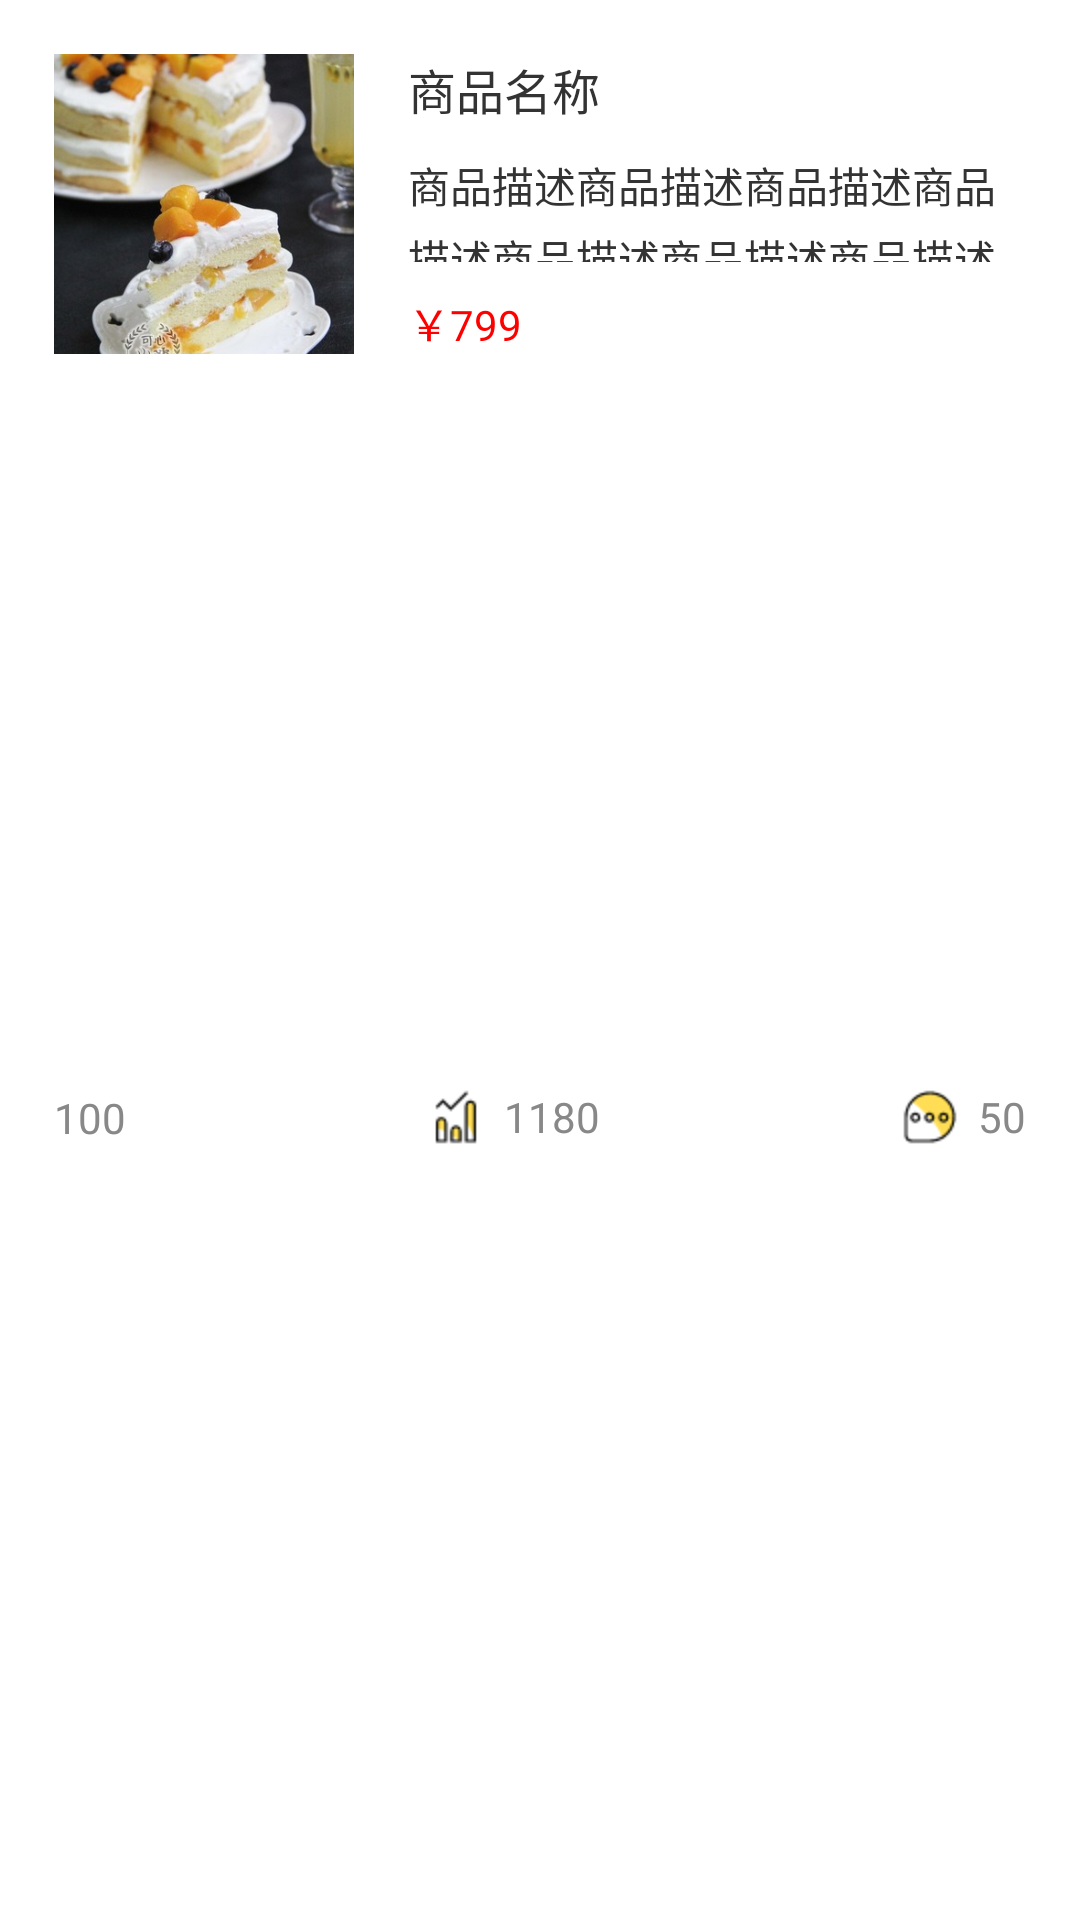

Where to tap for icons on this 1080px×1920px app screen, as (x,y):
grid hongbei: (204,204)
